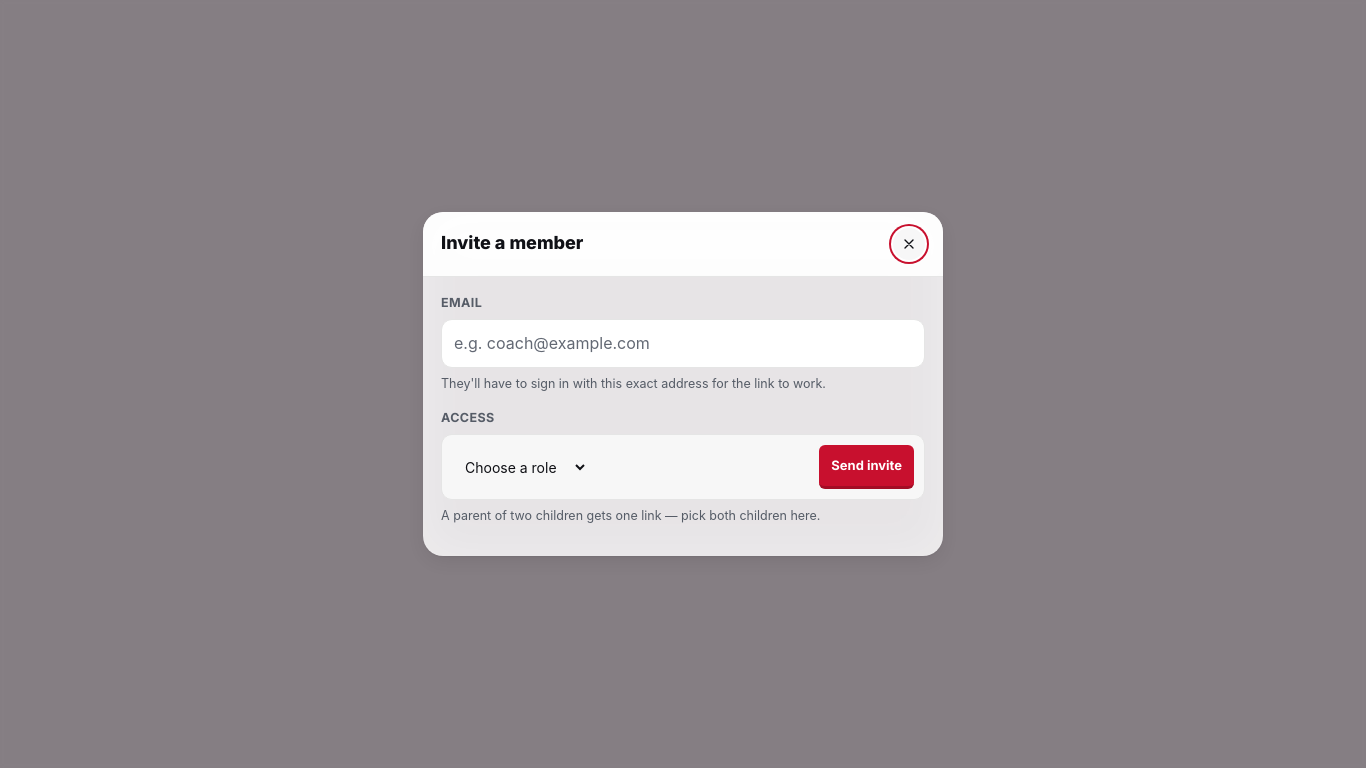
Test: InviteForm — validation › blocks submit and marks the field invalid when the email is not a valid address
Type "not-an-email" into the field labelled "Email". click: x=683, y=344
box: [441,319,925,368]
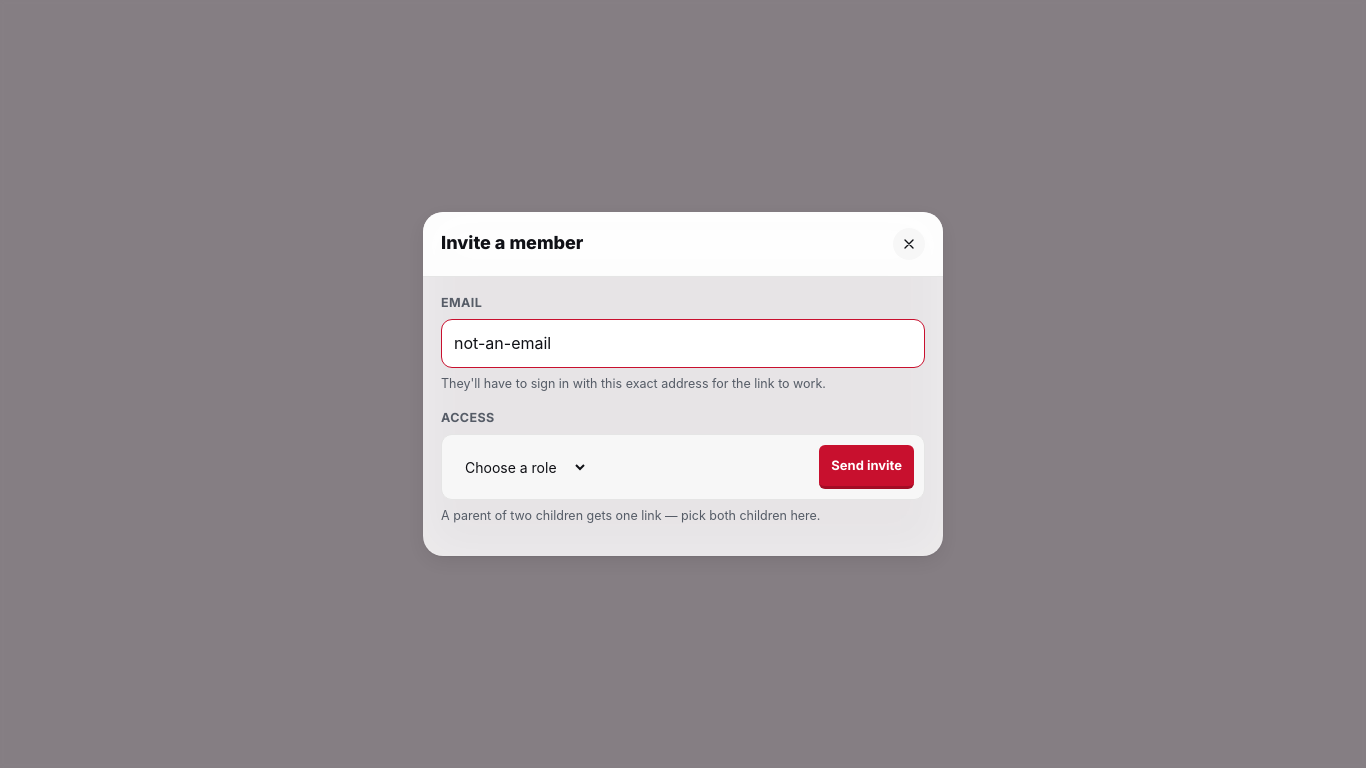
Select "Coach" in the dropdown named "Role for the new member". click: x=520, y=467
box: [452,453,589,482]
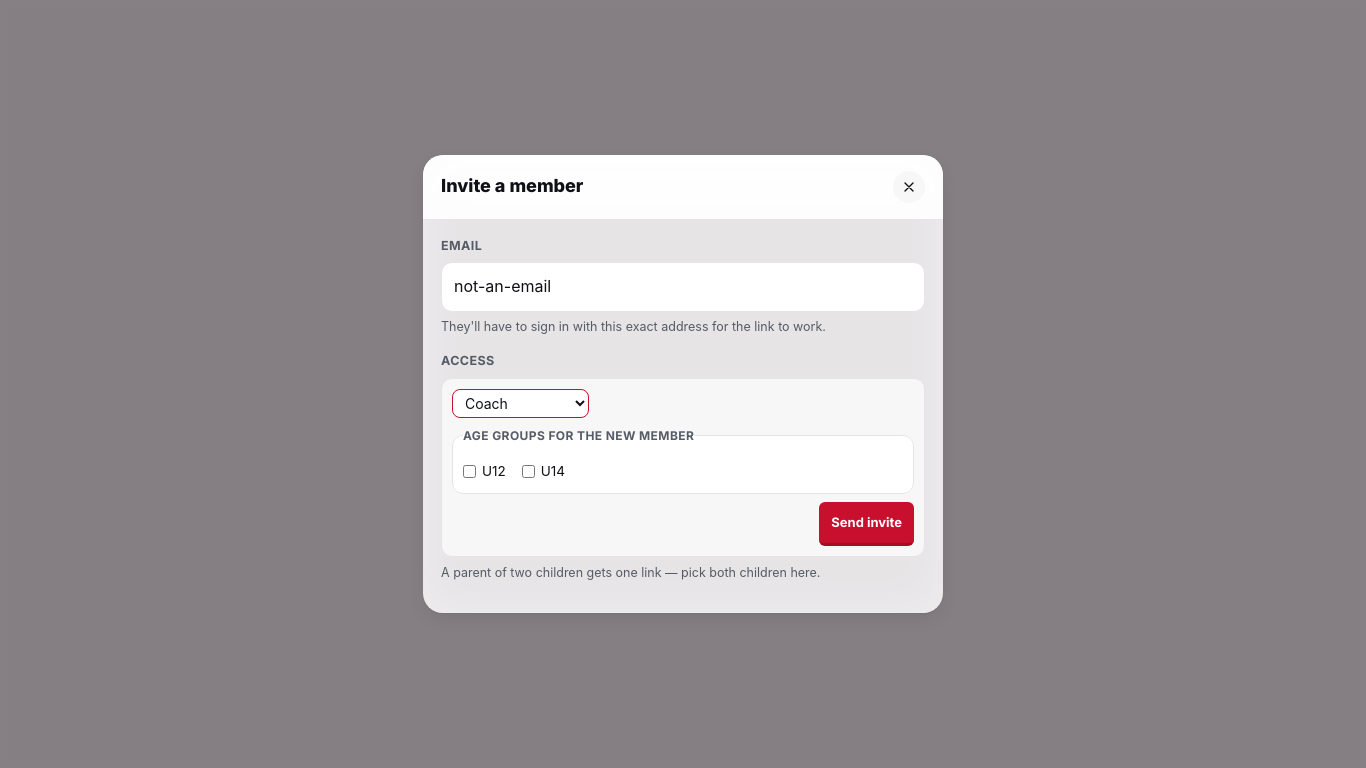
Click the checkbox labelled "U14". click: x=528, y=472
box: [522,466,535,478]
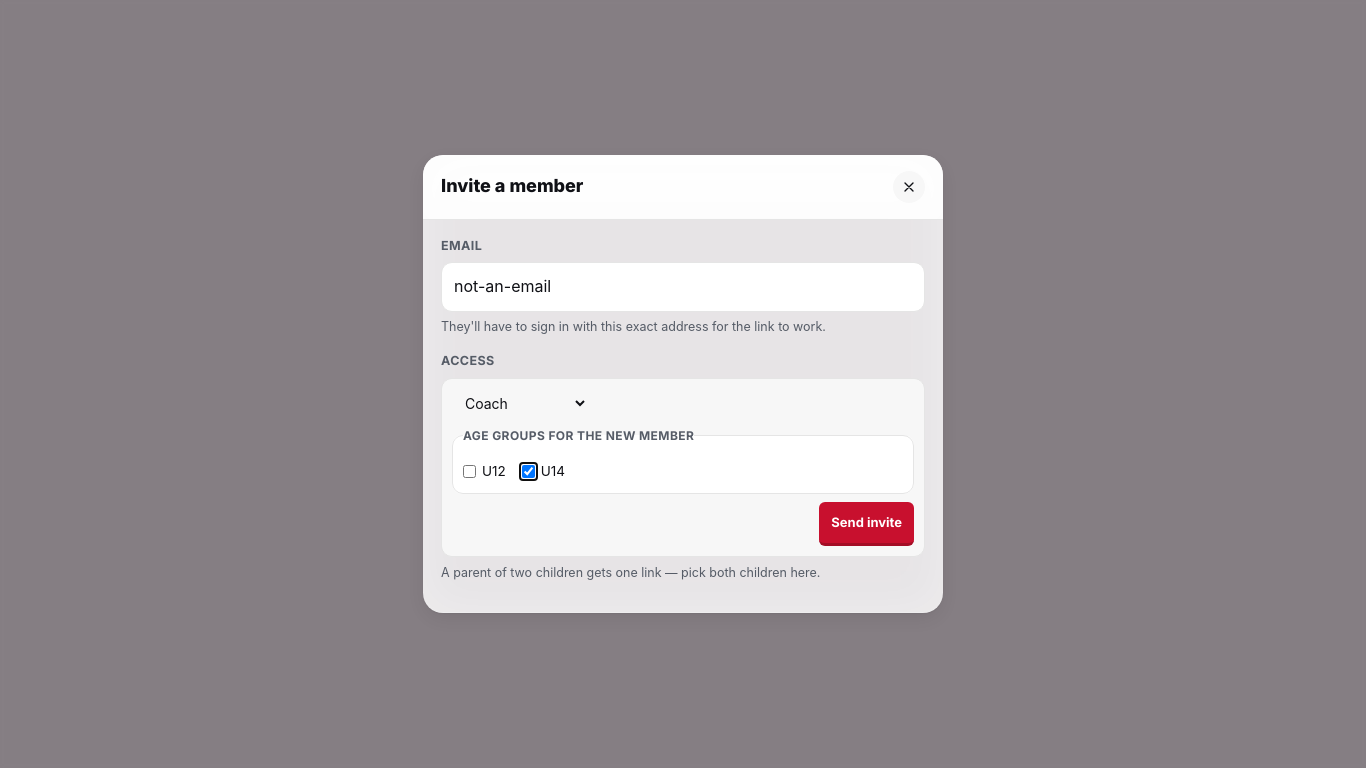
Click the button "Send invite". click: x=867, y=524
box: [819,502,914,546]
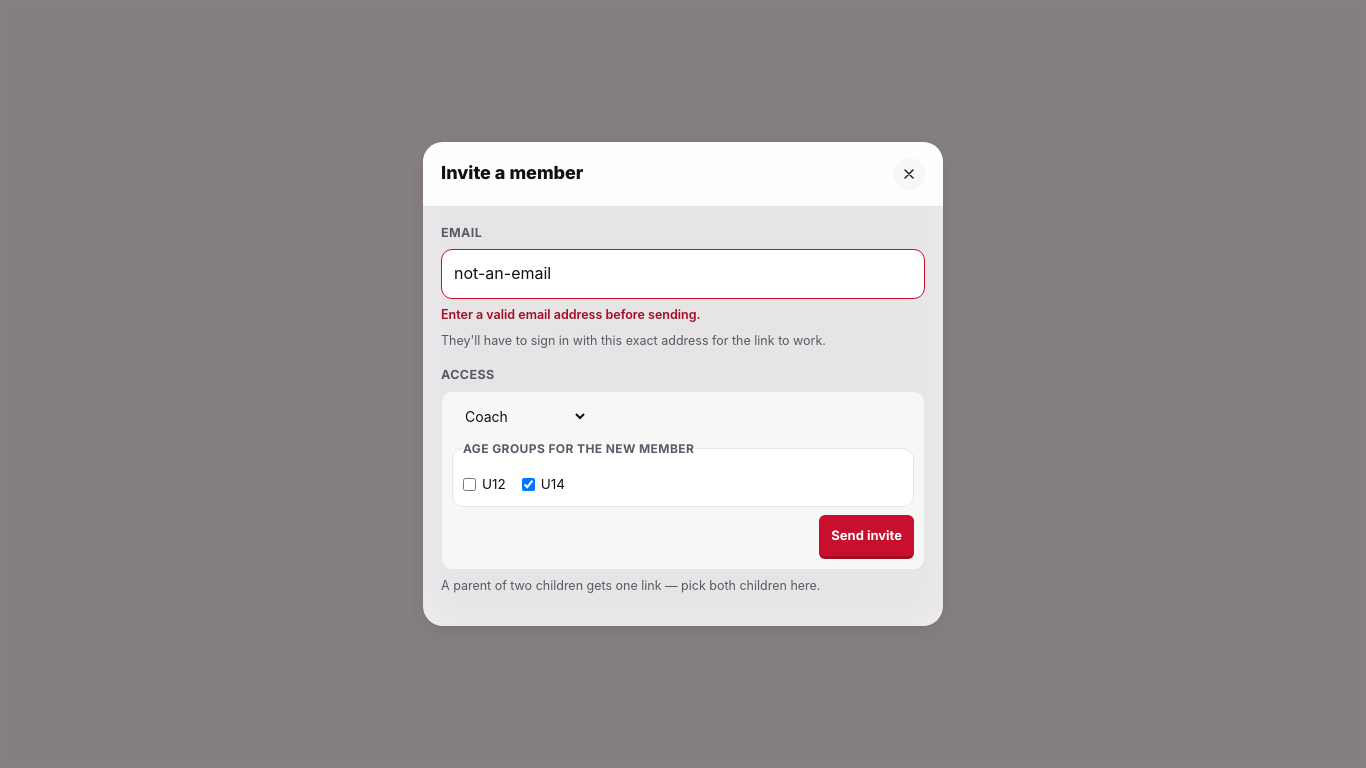
Result: the message "Enter a valid email address before sending." is shown at [441,307,700,322]
